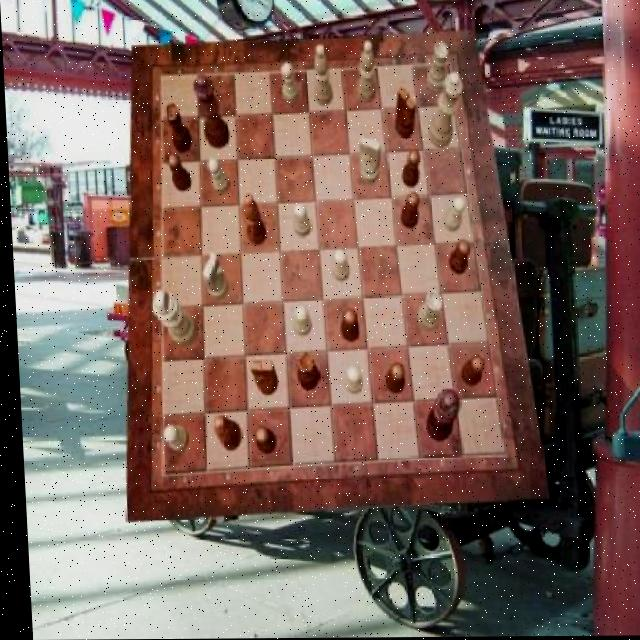bishop: (242, 195, 265, 248), (209, 416, 238, 452)
black-bishop: (421, 388, 458, 442)
black-king: (393, 88, 418, 141), (245, 360, 274, 395)
black-knight: (166, 154, 191, 192), (445, 239, 469, 275), (458, 356, 482, 388), (399, 150, 419, 188), (397, 193, 418, 229), (381, 363, 402, 395), (337, 307, 356, 342), (250, 428, 273, 455)
black-pawn: (192, 74, 229, 149)
black-queen: (163, 103, 192, 155), (293, 352, 317, 391)
black-rook: (354, 41, 376, 103), (311, 46, 333, 107)
white-bishop: (149, 290, 195, 347)
white-king: (200, 253, 226, 300), (356, 138, 381, 186)
white-knight: (205, 157, 229, 196), (441, 197, 465, 233), (281, 63, 300, 105), (159, 425, 186, 451), (290, 203, 309, 238), (329, 250, 348, 283), (288, 306, 308, 337), (340, 367, 358, 395)
white-pawn: (425, 73, 465, 149)
white-queen: (425, 42, 450, 93), (413, 292, 441, 332)
